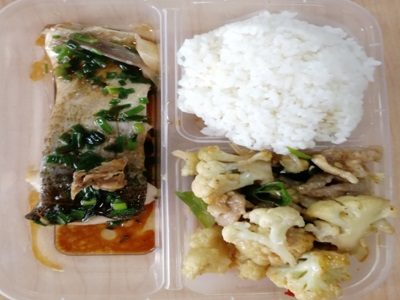cch: (181, 146, 380, 288)
rice: (184, 13, 353, 141)
yd: (34, 26, 155, 230)
